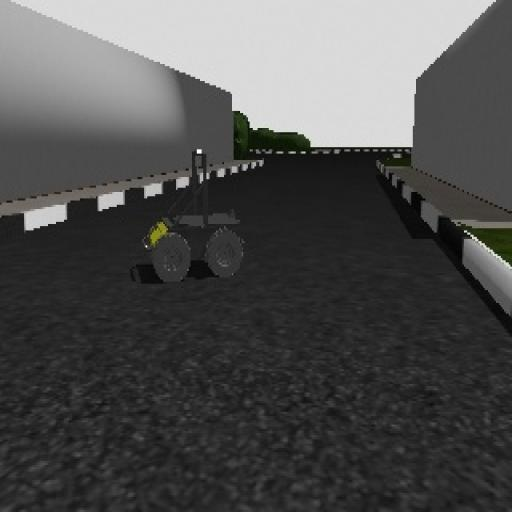huskya200: (126, 129, 254, 288)
